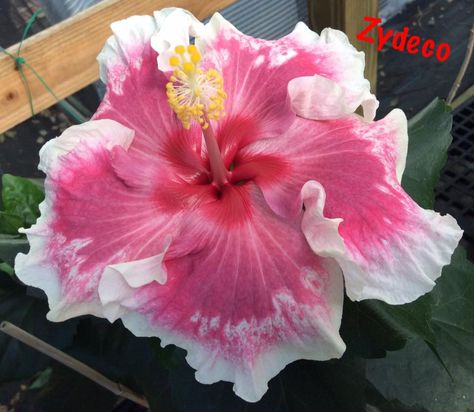Hibiscus: (23, 22, 446, 387)
